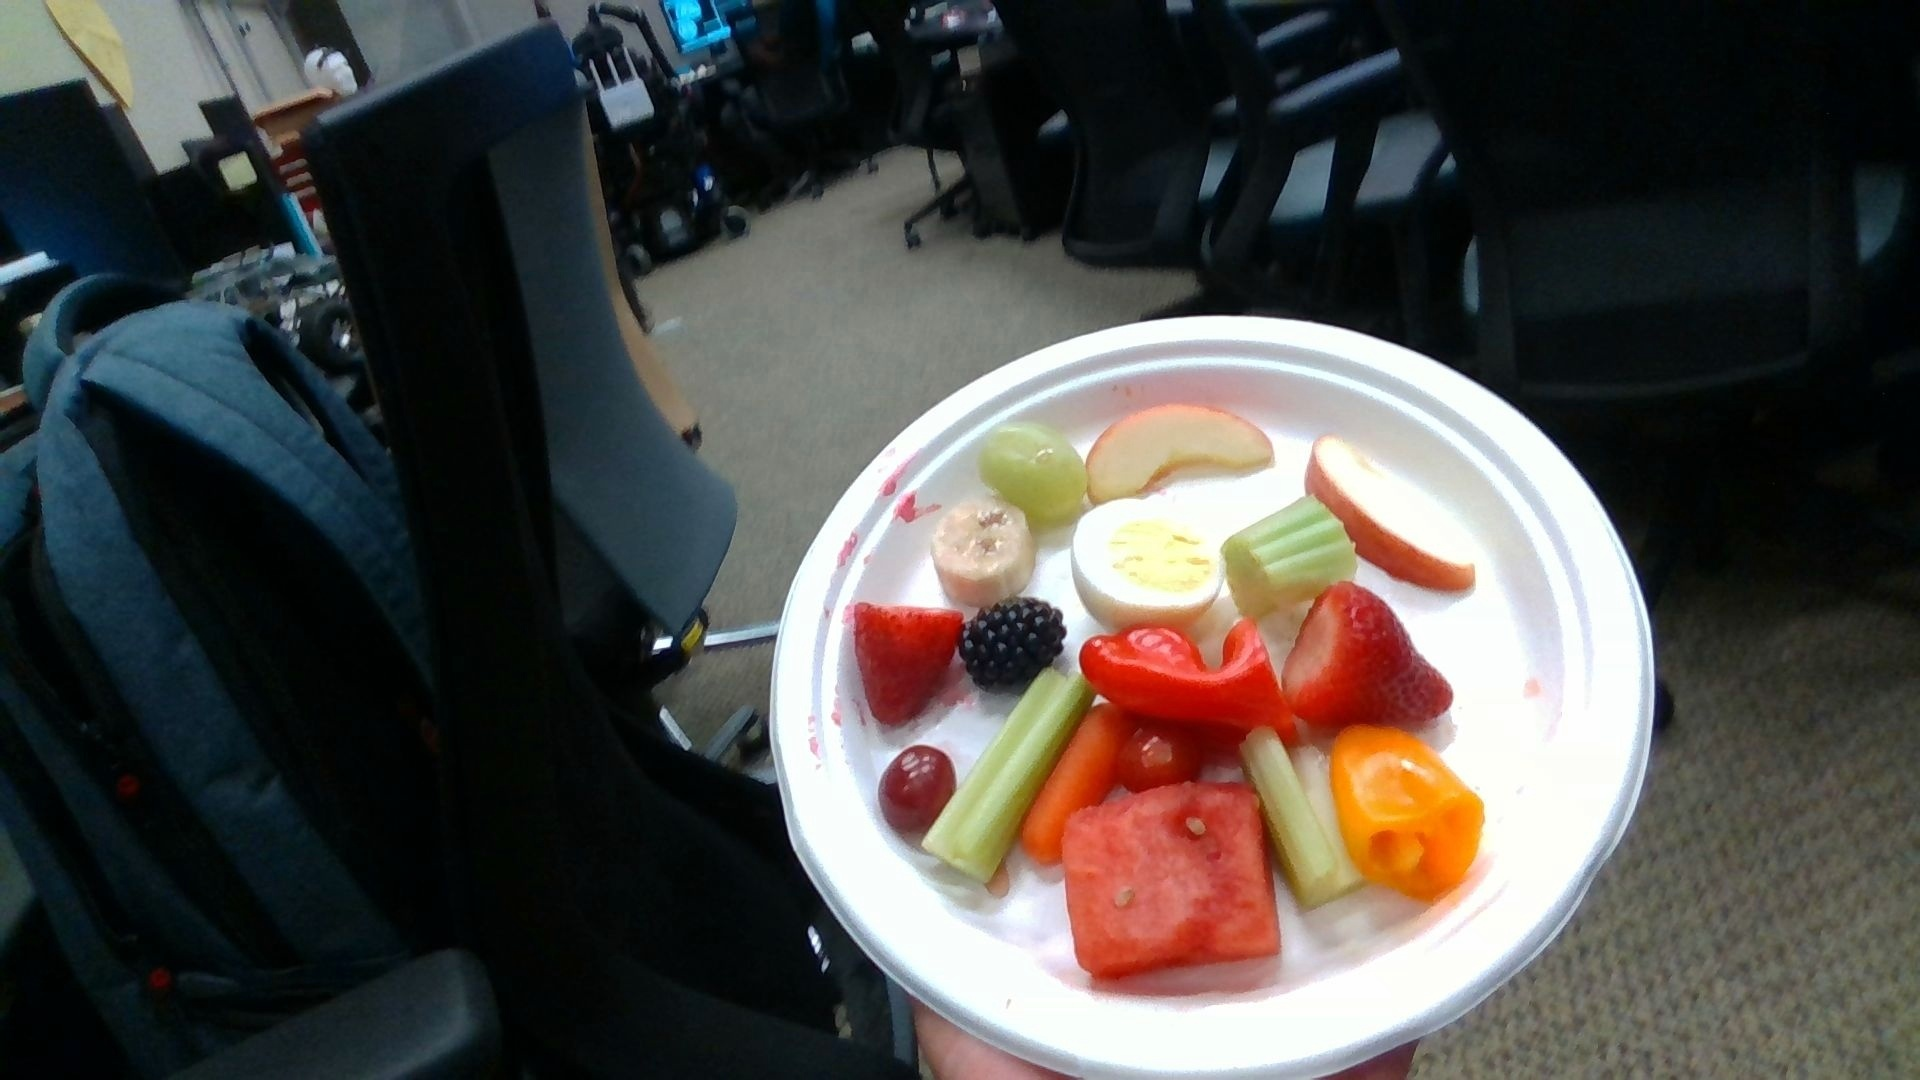apple: (1307, 433, 1480, 593), (1085, 405, 1273, 498)
banana: (930, 498, 1035, 596)
bell_pepper: (1331, 721, 1482, 899), (1080, 621, 1284, 728)
blackberry: (960, 596, 1064, 684)
carrot: (1021, 708, 1131, 862)
celery: (924, 670, 1089, 876), (1240, 725, 1367, 906), (1222, 498, 1354, 616)
cherry_tomato: (1120, 720, 1200, 790)
egg: (1073, 498, 1224, 622)
grape_green: (982, 421, 1084, 518)
grape_purple: (880, 745, 957, 833)
melon: (1062, 785, 1279, 976)
strawberry: (1282, 585, 1452, 723), (855, 600, 963, 721)
